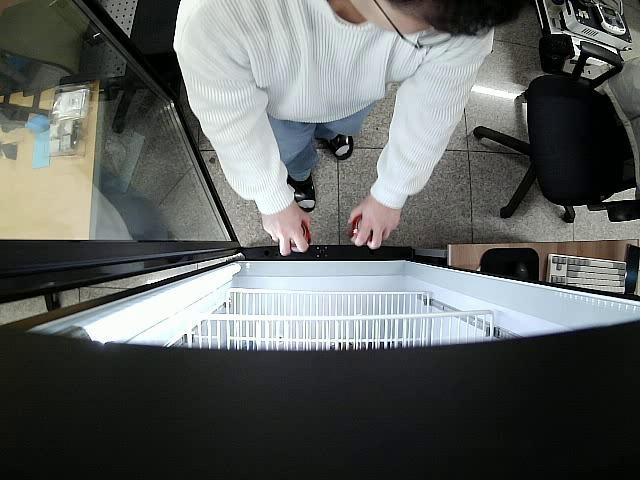11_cocaColaZero: (350, 213, 372, 248), (289, 221, 312, 253)
